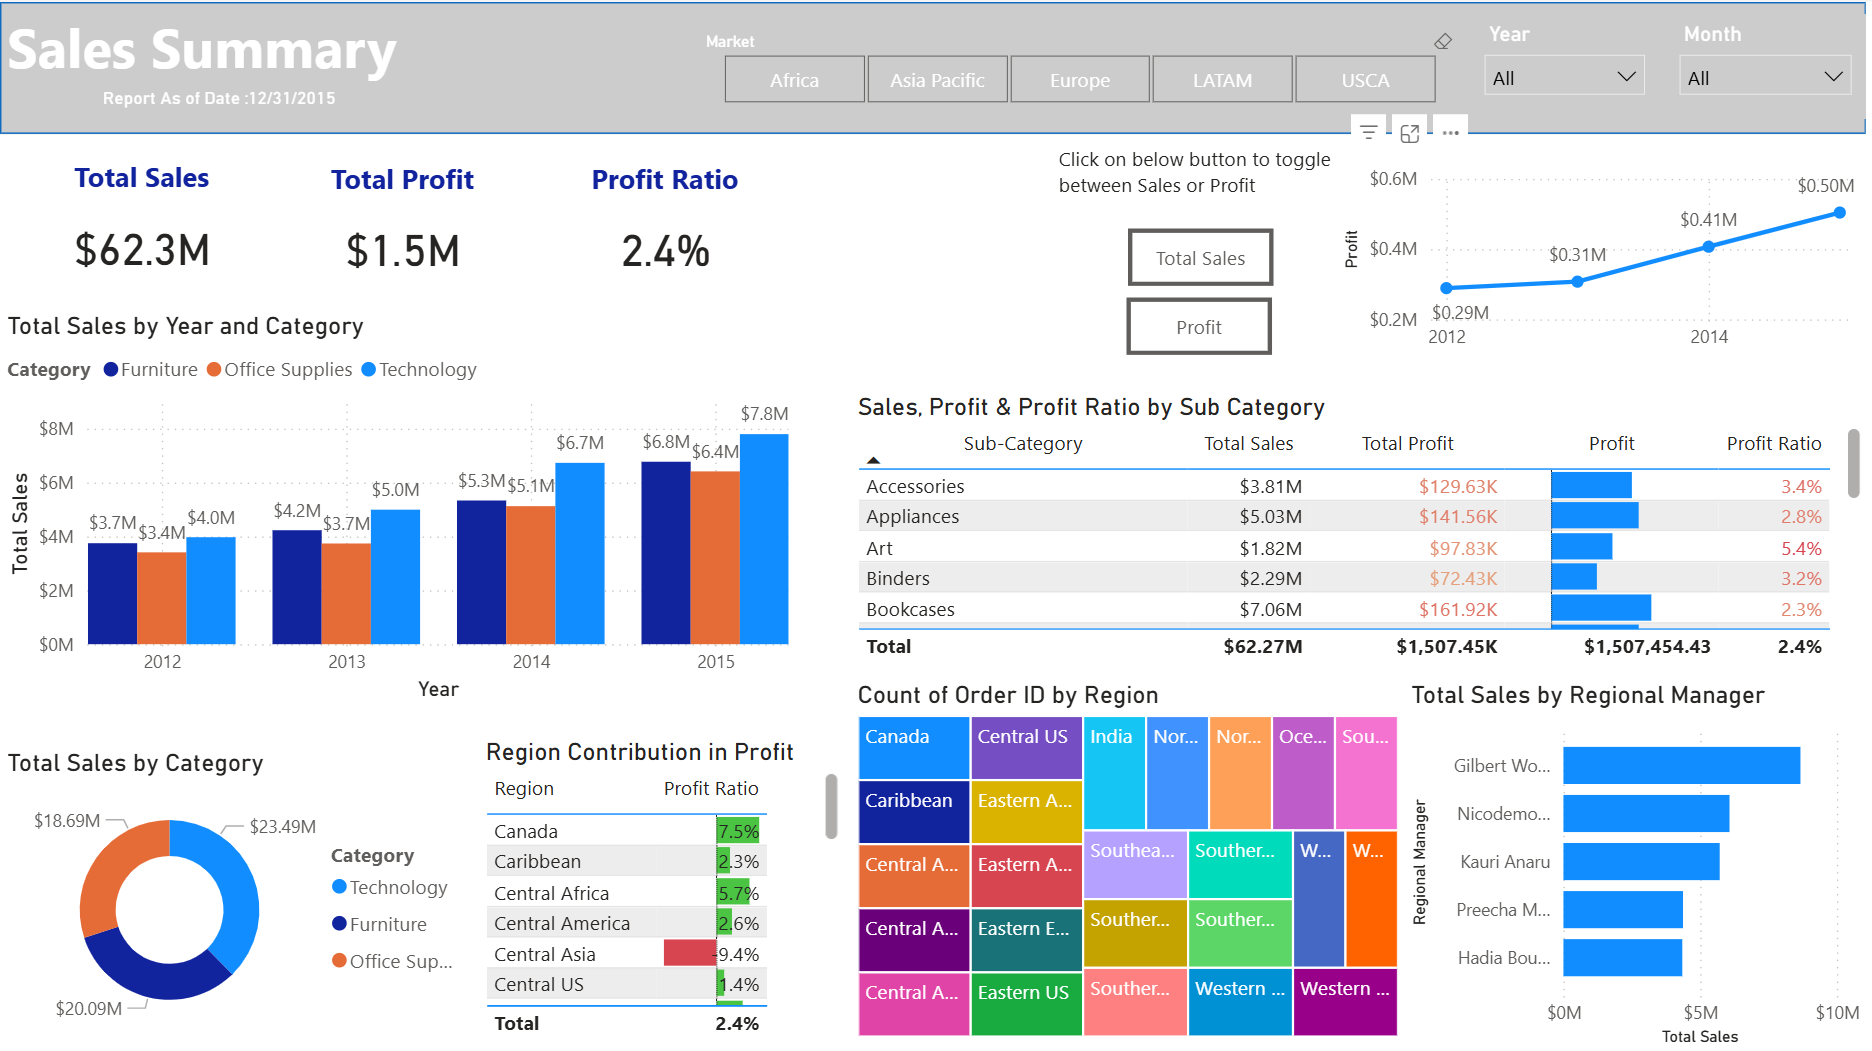

The page's visual inventory and layout, read from the dashboard file:
{"tool":"powerbi","page":{"name":"Sales Summary","canvas":[1280,720],"ordinal":0},"visuals":[{"type":"shape","box":[0,0,1279.6,90.4],"z":0},{"type":"textbox","box":[0,0,1279.6,60.3],"z":1000},{"type":"card","fields":{"Values":["Imp Measure Table.Report As of Date"]},"box":[0,45.7,300.4,43.7],"z":2000},{"type":"slicer","fields":{"Values":["Orders.Market"]},"box":[470.9,15.6,537.4,60.3],"z":3000},{"type":"slicer","fields":{"Values":["Date Table.Year"]},"box":[1008.3,8.3,129.9,71.7],"z":4000},{"type":"slicer","fields":{"Values":["Date Table.MonthName"]},"box":[1141.3,8.3,138.3,71.7],"z":5000},{"type":"card","title":"Total Sales","fields":{"Values":["Imp Measure Table.Total Sales"]},"box":[7,106.6,180,96.2],"z":6000},{"type":"card","title":"Total Profit","fields":{"Values":["Imp Measure Table.Profit"]},"box":[186.6,107.8,179.6,95],"z":7000},{"type":"card","title":"Profit Ratio","fields":{"Values":["Imp Measure Table.Profit Ratio"]},"box":[366.2,107.8,179.6,95],"z":8000},{"type":"clusteredColumnChart","fields":{"Category":["Date Table.Year"],"Y":["Imp Measure Table.Total Sales"],"Series":["Orders.Category"]},"box":[0,212,545.8,271.1],"z":9000},{"type":"donutChart","fields":{"Y":["Imp Measure Table.Total Sales"],"Category":["Orders.Category"]},"box":[0,511,327.9,202.8],"z":10000},{"type":"tableEx","title":"Region Contribution in Profit","fields":{"Values":["Orders.Region","Imp Measure Table.Profit Ratio"]},"box":[327.9,504,251.4,209.7],"z":11000},{"type":"treemap","fields":{"Group":["Orders.Region"],"Values":["Returns.Order ID"]},"box":[582.8,464.7,380.1,249.1],"z":12000},{"type":"clusteredBarChart","title":"Total Sales by Regional Manager","fields":{"Y":["Imp Measure Table.Total Sales"],"Category":["People.Person"]},"box":[962.9,464.7,317.5,254.9],"z":13000},{"type":"tableEx","title":"Sales, Profit & Profit Ratio by Sub Category","fields":{"Values":["Orders.Sub-Category","Imp Measure Table.Total Sales","Imp Measure Table.Total Profit","Imp Measure Table.Profit","Imp Measure Table.Profit Ratio"]},"box":[583.1,267.1,697.5,188.1],"z":14000},{"type":"lineChart","fields":{"Category":["Date Table.Year"],"Y":["Imp Measure Table.Profit"]},"box":[916.8,107.1,362.8,140.3],"z":16000},{"type":"actionButton","title":"Total Sales Button","box":[773.4,154.9,99.8,39.5],"z":17000},{"type":"actionButton","title":"Profit Button","box":[772.3,202.7,99.8,39.5],"z":18000},{"type":"textbox","box":[721.4,92.5,201.7,56.1],"z":19000}]}

Visuals, with their boxes on the page's 1280x720 design canvas (x1, y1, x2, y2). These are canvas units, not pixel positions in the 1872x1051 screenshot, which may show the page scaled, cropped or inside an application window:
shape: <bbox>0, 0, 1280, 90</bbox>
textbox: <bbox>0, 0, 1280, 60</bbox>
card - Imp Measure Table.Report As of Date: <bbox>0, 46, 300, 89</bbox>
slicer - Orders.Market: <bbox>471, 16, 1008, 76</bbox>
slicer - Date Table.Year: <bbox>1008, 8, 1138, 80</bbox>
slicer - Date Table.MonthName: <bbox>1141, 8, 1280, 80</bbox>
"Total Sales" card: <bbox>7, 107, 187, 203</bbox>
"Total Profit" card: <bbox>187, 108, 366, 203</bbox>
"Profit Ratio" card: <bbox>366, 108, 546, 203</bbox>
clusteredColumnChart - Date Table.Year x Imp Measure Table.Total Sales: <bbox>0, 212, 546, 483</bbox>
donutChart - Imp Measure Table.Total Sales x Orders.Category: <bbox>0, 511, 328, 714</bbox>
"Region Contribution in Profit" tableEx: <bbox>328, 504, 579, 714</bbox>
treemap - Orders.Region x Returns.Order ID: <bbox>583, 465, 963, 714</bbox>
"Total Sales by Regional Manager" clusteredBarChart: <bbox>963, 465, 1280, 720</bbox>
"Sales, Profit & Profit Ratio by Sub Category" tableEx: <bbox>583, 267, 1281, 455</bbox>
lineChart - Date Table.Year x Imp Measure Table.Profit: <bbox>917, 107, 1280, 247</bbox>
"Total Sales Button" actionButton: <bbox>773, 155, 873, 194</bbox>
"Profit Button" actionButton: <bbox>772, 203, 872, 242</bbox>
textbox: <bbox>721, 92, 923, 149</bbox>
